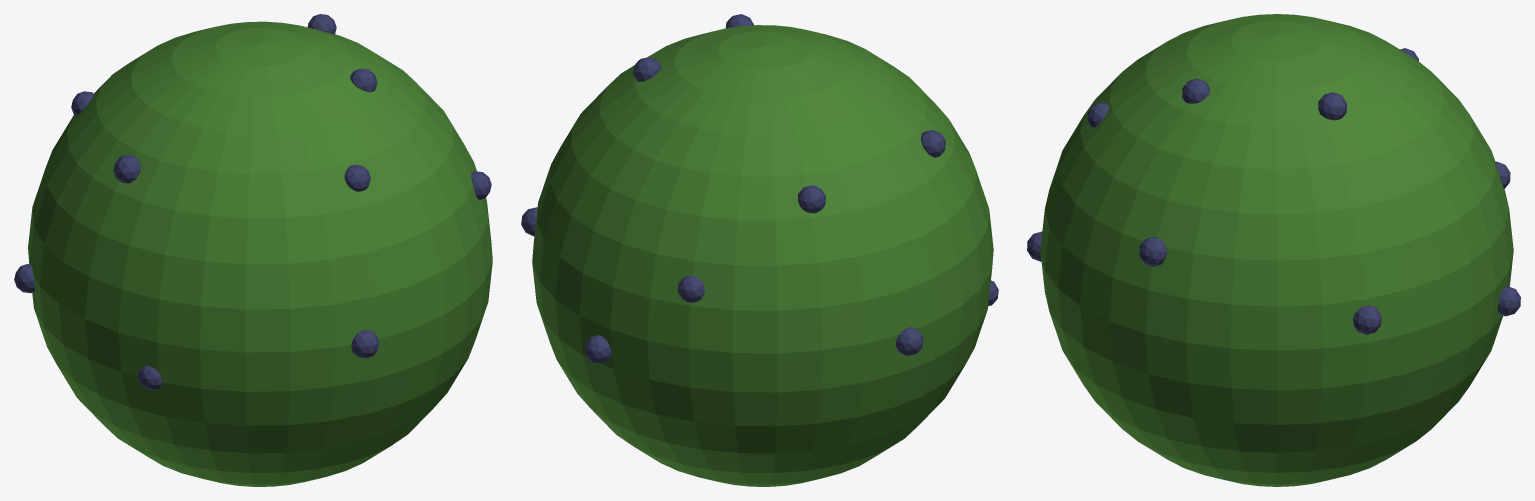
Rendered from berry_bush.glb.
3 renders of one model, left to right at view 1: azimuth 30°, elevation 25°; view 2: azimuth 150°, elevation 25°; view 3: azimuth 270°, elevation 25°, orthographic. The views are drawn at different scales.
Parts seen in each view (by area): view 1: Bush, Berry_I, Berry_C, Berry_B; view 2: Bush, Berry_D, Berry_F, Berry_H, Berry_E.001, Berry_C, Berry_J; view 3: Bush, Berry_G, Berry_E, Berry_J, Berry_A, Berry_F.
Part boxes in pixels (box(x1,y1,x2,y2)): Bush: box(28, 21, 492, 486); Berry_I: box(351, 330, 379, 358); Berry_C: box(113, 155, 140, 183); Berry_B: box(344, 164, 370, 191); Bush: box(532, 25, 993, 486); Berry_D: box(798, 185, 825, 213); Berry_F: box(584, 335, 611, 363); Berry_H: box(896, 327, 923, 355); Berry_E.001: box(677, 275, 704, 302); Berry_C: box(921, 130, 945, 157); Berry_J: box(633, 57, 661, 81); Bush: box(1040, 14, 1513, 486); Berry_G: box(1353, 305, 1381, 334); Berry_E: box(1139, 236, 1166, 266); Berry_J: box(1318, 92, 1346, 120); Berry_A: box(1182, 78, 1209, 103); Berry_F: box(1498, 286, 1520, 316).
Size of the model in its own units: 0.941 by 0.9399 by 0.9805.
